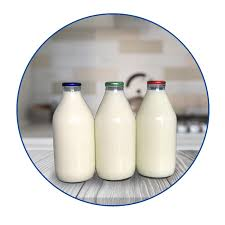milk: (48, 76, 94, 180), (91, 79, 136, 179), (140, 79, 184, 180)
